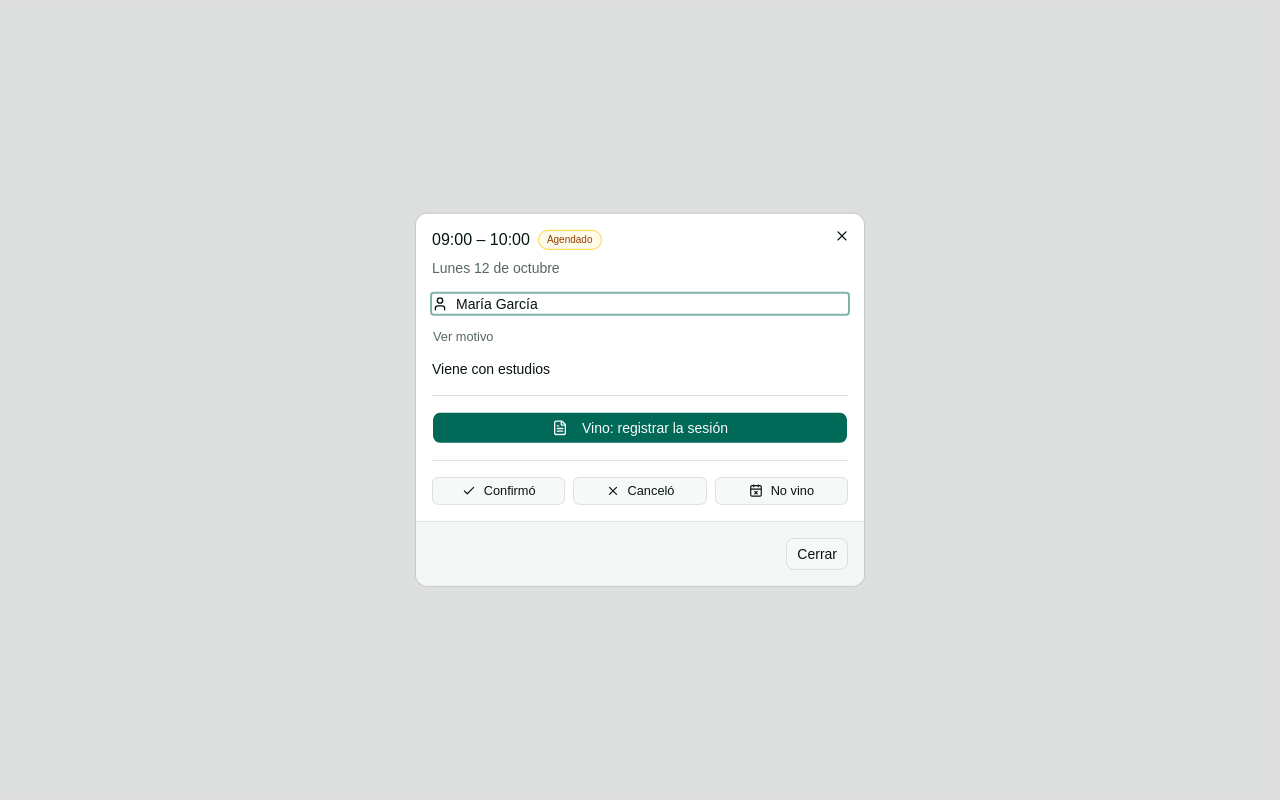
Test: AppointmentDetailDialog › says so when the record cannot be read
Click the button "Ver motivo" at x=463, y=337, box [432,327,494,347]
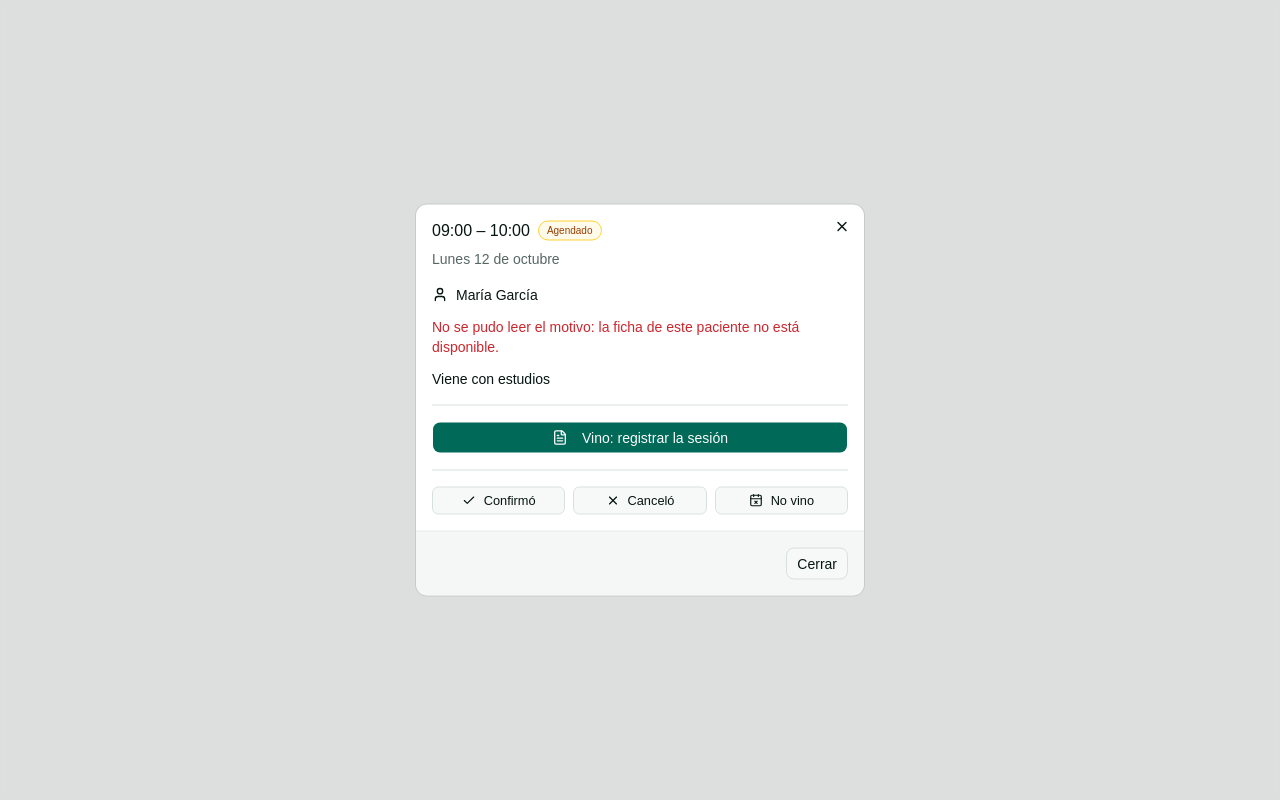
expect the text "No se pudo leer el motivo" is shown: met, box [432,318,799,354]
